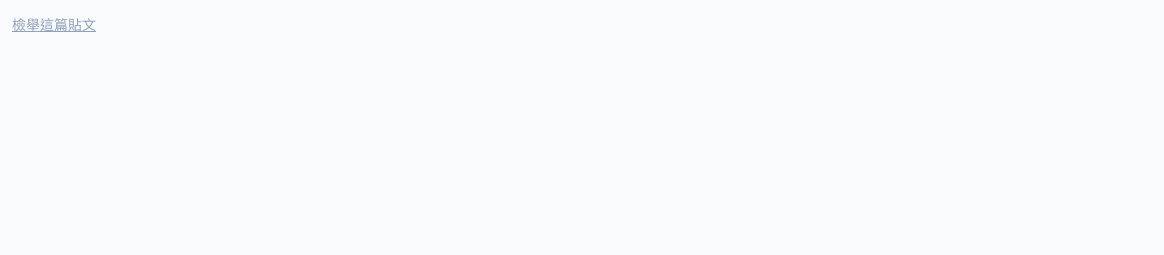
Test case: ReportButton › sends the chosen reason and details, then thanks the user
The width and height of the screenshot is (1164, 255).
Click the button "檢舉這篇貼文": (54, 25) [12,15,96,35]
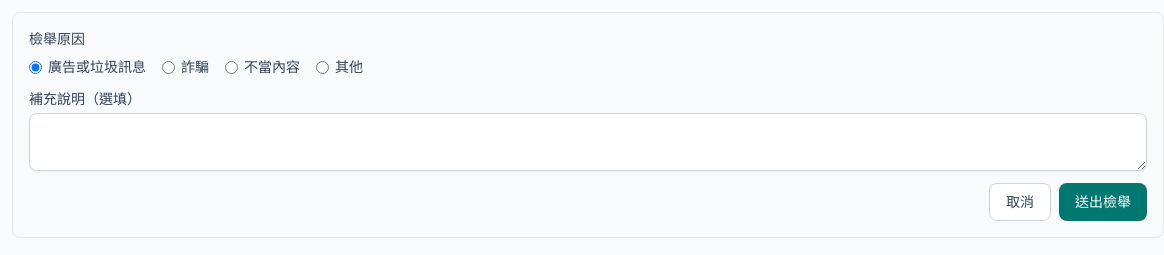
Click the radio button labelled "詐騙": (168, 67) [162,60,175,74]
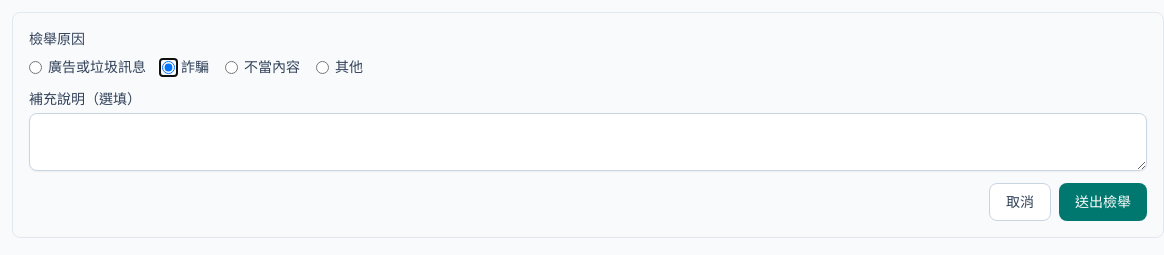
In the text box labelled "補充說明（選填）": (588, 142) [29,113,1147,171], type "要求先匯款"
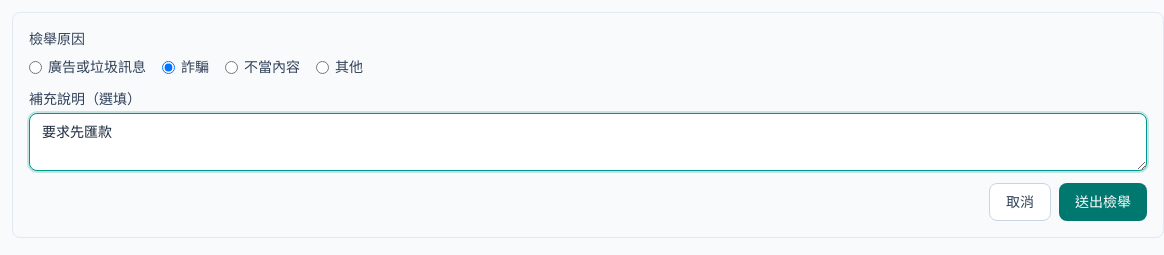
Click the button "送出檢舉": (1103, 202) [1059,183,1147,221]
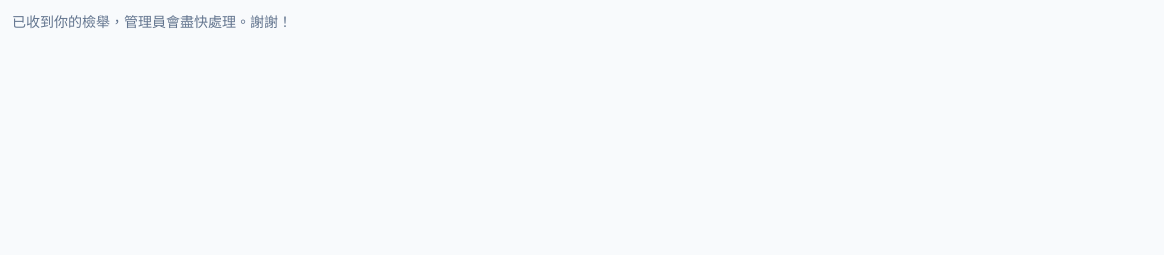
Expected: the text "已收到你的檢舉，管理員會盡快處理。謝謝！" is shown, [12,12,292,31]
